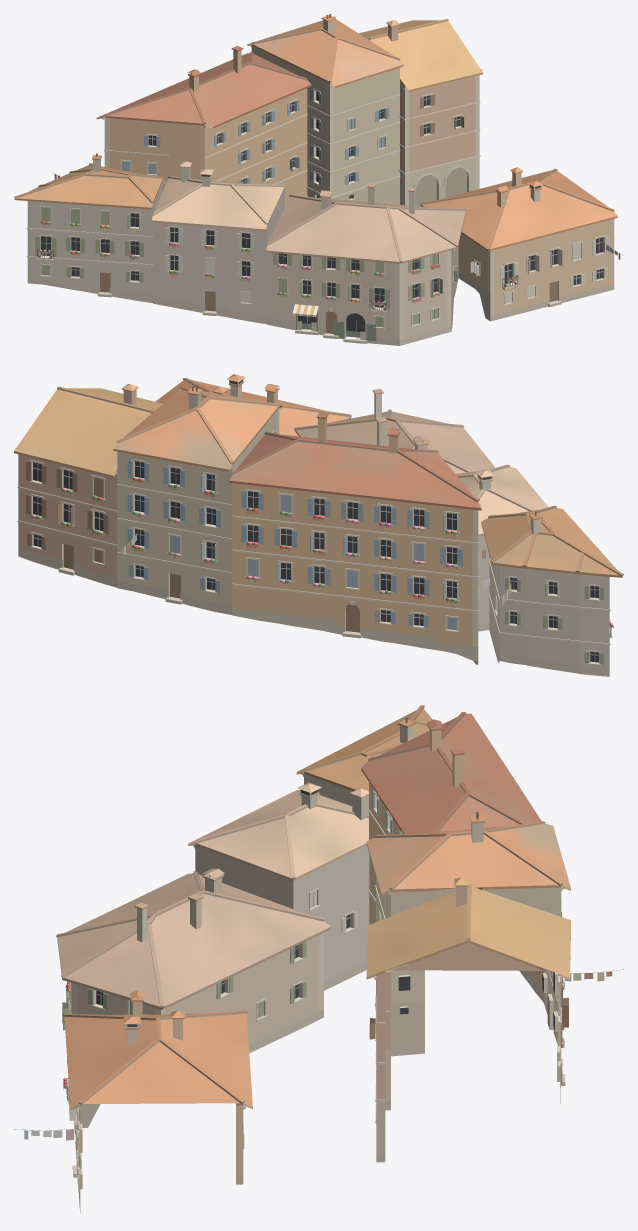
The model's file is SM_BM_BT_blk_07.glb.
3 renders of one model, top to bottom at view 1: azimuth 30°, elevation 25°; view 2: azimuth 150°, elevation 25°; view 3: azimuth 270°, elevation 25°, orthographic. The views are drawn at different scales.
Visible parts, largest first — view 1: SM_BM_BT_blk_07; view 2: SM_BM_BT_blk_07; view 3: SM_BM_BT_blk_07.
Boxes of the visible parts, x1=… form: SM_BM_BT_blk_07: x1=14, y1=14, x2=623, y2=345; SM_BM_BT_blk_07: x1=14, y1=374, x2=623, y2=676; SM_BM_BT_blk_07: x1=14, y1=705, x2=623, y2=1213.
Size of the model in its own units: 57.61 by 23.92 by 44.06.
